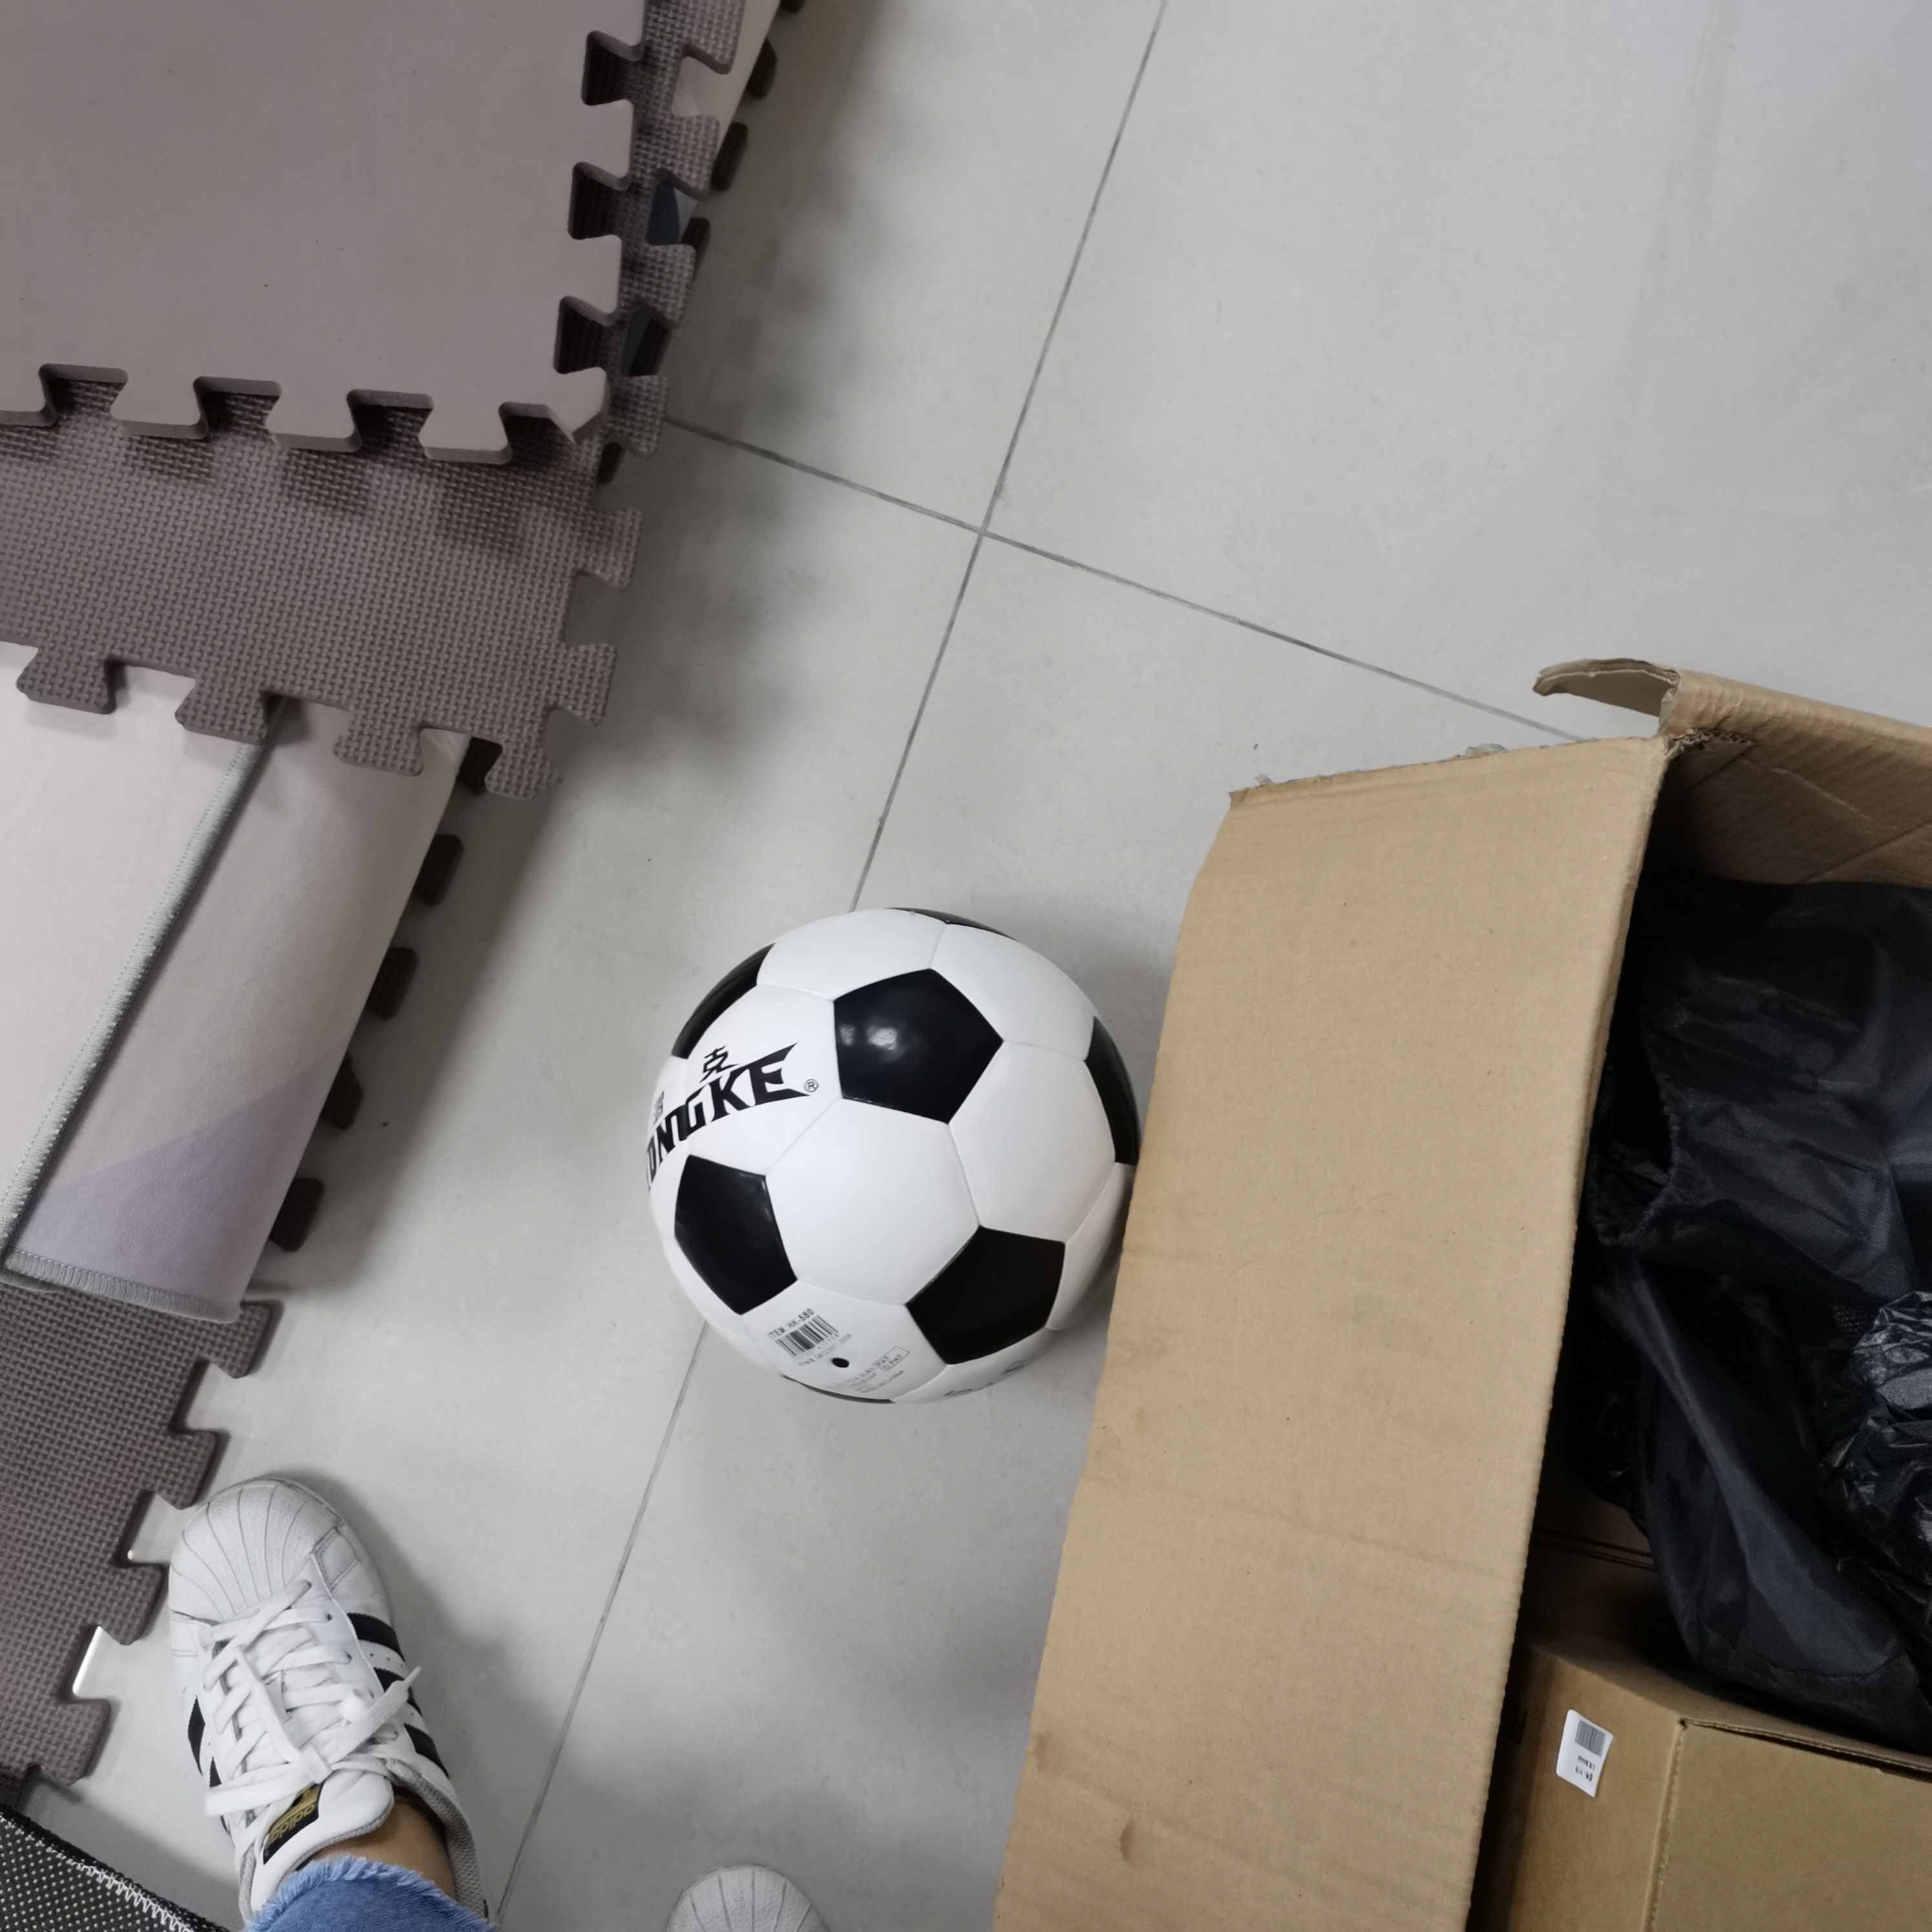football: (642, 906, 1138, 1403)
